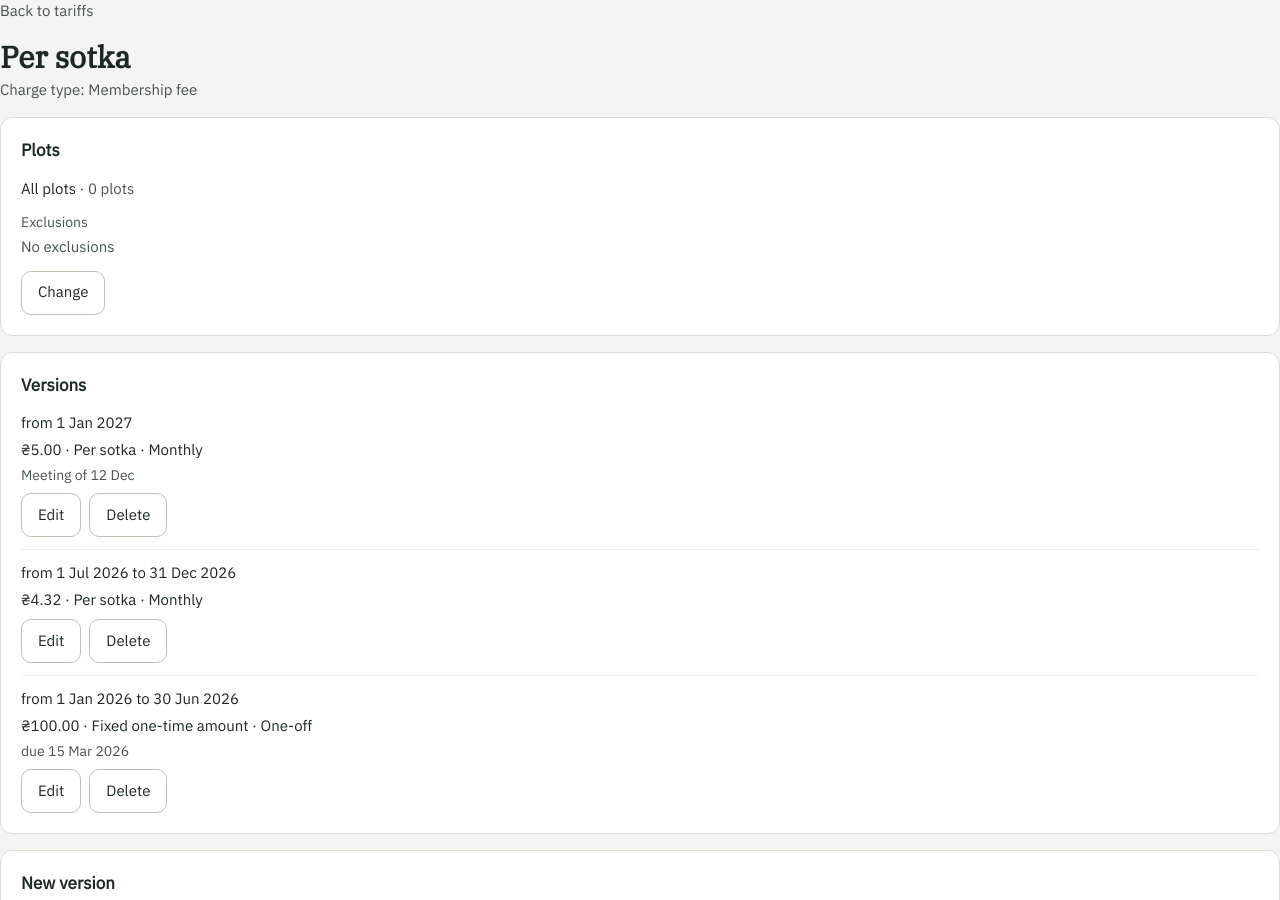
TariffPage › disables the controls with a hint when the version is in use (409 on delete)
Click the button "Delete" below "from 1 Jan 2027": (128, 515) x1=89 y1=493 x2=167 y2=537
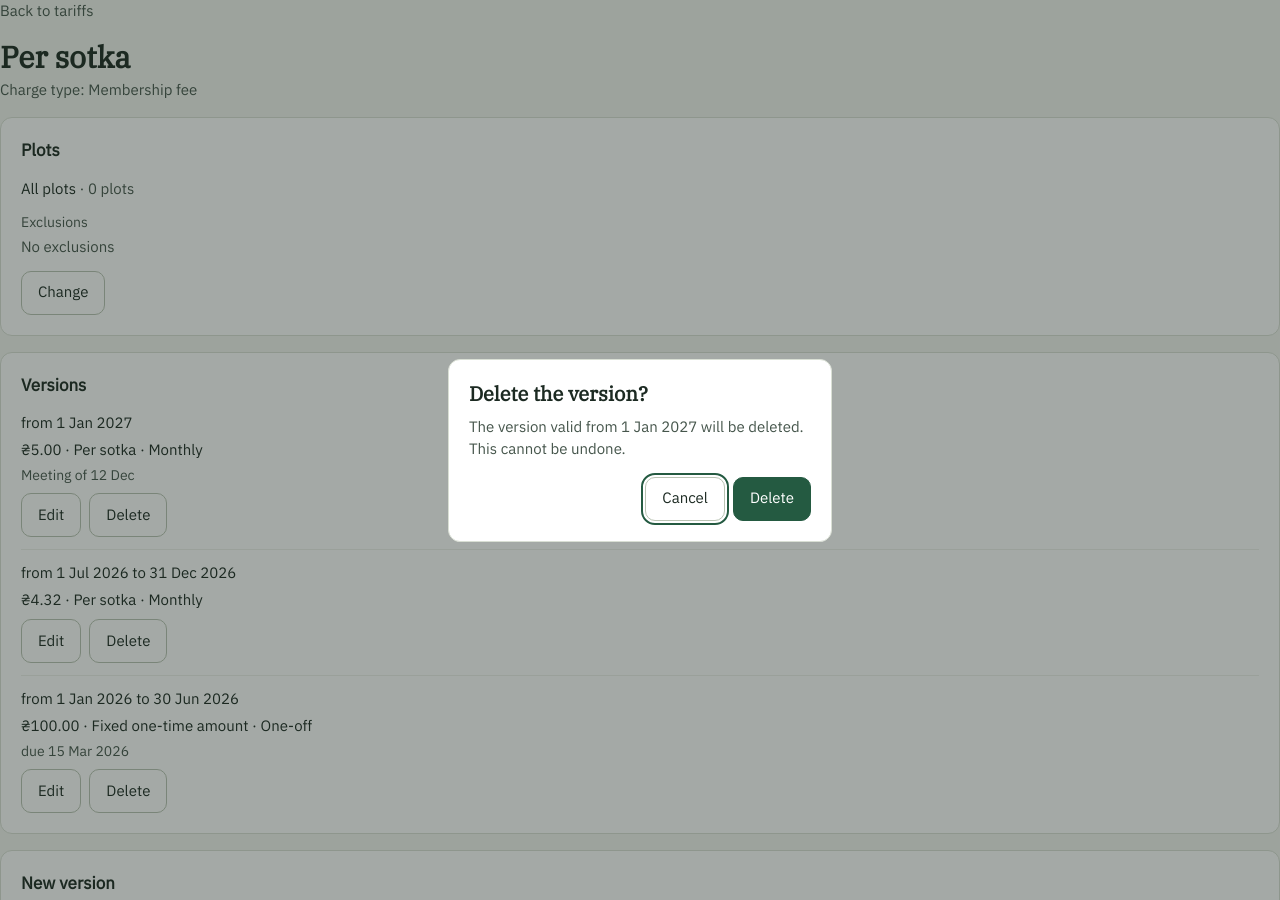
Click the button "Delete": (772, 498) x1=733 y1=476 x2=811 y2=520
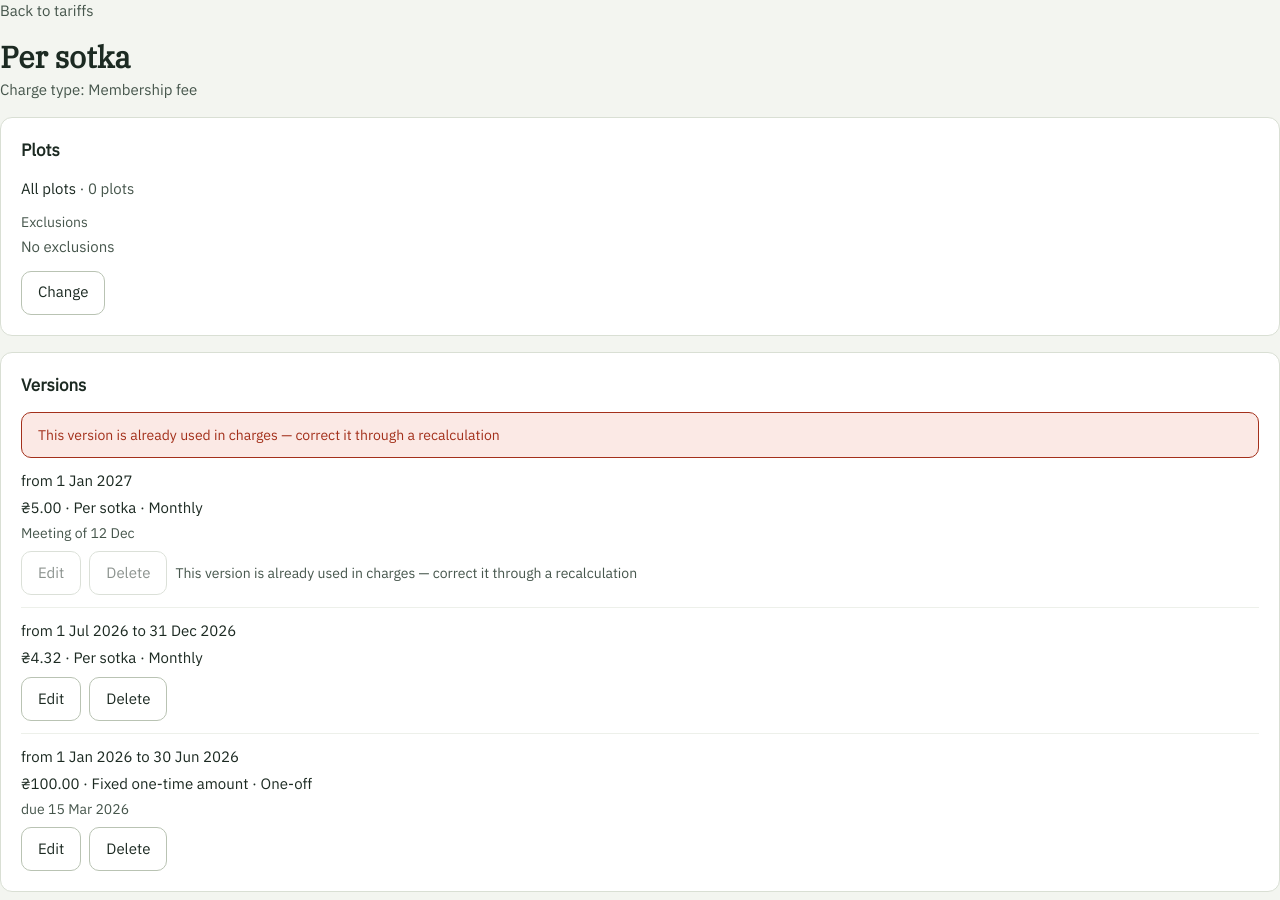
Expected: the text "already used in charges" is shown, x1=175 y1=564 x2=637 y2=582
Expected: the button "Edit" below "from 1 Jan 2027" is disabled, x1=21 y1=551 x2=81 y2=595
Expected: the button "Delete" below "from 1 Jan 2027" is disabled, x1=89 y1=551 x2=167 y2=595
